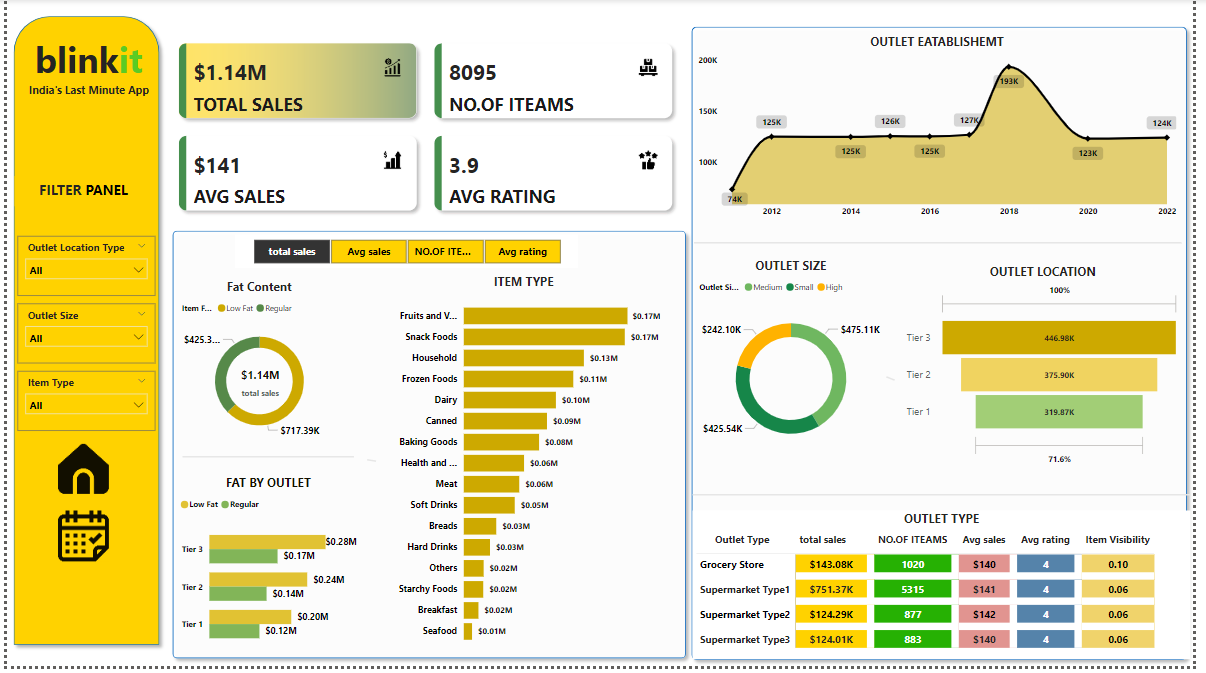

The dashboard page shown, as its layout file describes it:
{"tool":"powerbi","page":{"name":"Page 1","canvas":[1600,900],"ordinal":0},"visuals":[{"type":"shape","box":[0,14.2,214.5,866.3],"z":0},{"type":"textbox","box":[24.8,43.4,171.6,78.5],"z":1000},{"type":"textbox","box":[24.8,107.5,438.2,57.9],"z":2000},{"type":"cardVisual","fields":{"Data":["BlinkIT Grocery Data.total sales","BlinkIT Grocery Data.no of ideas","BlinkIT Grocery Data.Avg sales","BlinkIT Grocery Data.Avg rating"]},"box":[214.5,42.5,700.3,261.1],"z":3000},{"type":"shape","box":[214.5,303.6,710.4,595.1],"z":4000},{"type":"donutChart","title":" Fat Content","fields":{"Y":["BlinkIT Grocery Data.total sales"],"Category":["BlinkIT Grocery Data.Item Fat Content"]},"box":[231.5,376.2,219.1,229.4],"z":5000},{"type":"slicer","fields":{"Values":["metrics.metrics"]},"box":[308,318.3,463,45.5],"z":6000},{"type":"card","fields":{"Values":["BlinkIT Grocery Data.total sales"]},"box":[279,487.8,124,57.9],"z":7000},{"type":"clusteredBarChart","title":"FAT BY OUTLET   ","fields":{"Y":["BlinkIT Grocery Data.total sales"],"Category":["BlinkIT Grocery Data.Outlet Location Type"],"Series":["BlinkIT Grocery Data.Item Fat Content"]},"box":[229.4,640.8,248,248],"z":8000},{"type":"shape","box":[237.7,599.4,231.5,37.2],"z":9000},{"type":"shape","box":[485.7,363.8,12.4,516.7],"z":10000},{"type":"barChart","title":"ITEM TYPE","fields":{"Y":["BlinkIT Grocery Data.total sales"],"Category":["BlinkIT Grocery Data.Item Type"]},"box":[508.5,370,378.3,510.5],"z":11000},{"type":"shape","box":[914.9,28.3,686.1,872.4],"z":12000},{"type":"lineChart","title":"OUTLET EATABLISHEMT","fields":{"Category":["BlinkIT Grocery Data.Outlet Establishment Year"],"Y":["Sum(BlinkIT Grocery Data.Sales)"]},"box":[927,46.6,655.8,257.1],"z":13000},{"type":"shape","box":[927,317.8,657.8,22.3],"z":14000},{"type":"donutChart","title":"OUTLET SIZE","fields":{"Y":["BlinkIT Grocery Data.total sales"],"Category":["BlinkIT Grocery Data.Outlet Size"]},"box":[929,348.1,257.1,279.3],"z":15000},{"type":"shape","box":[1186.1,402.8,12.1,218.6],"z":16000},{"type":"funnel","title":"OUTLET LOCATION","fields":{"Category":["BlinkIT Grocery Data.Outlet Location Type"],"Y":["Sum(BlinkIT Grocery Data.Sales)"]},"box":[1208.3,356.2,378.5,279.3],"z":17000},{"type":"shape","box":[925,657.8,672,22.3],"z":18000},{"type":"pivotTable","title":"OUTLET TYPE","fields":{"Rows":["BlinkIT Grocery Data.Outlet Type"],"Values":["BlinkIT Grocery Data.total sales","BlinkIT Grocery Data.NO.OF ITEAMS","BlinkIT Grocery Data.Avg sales","BlinkIT Grocery Data.Avg rating","Avg(BlinkIT Grocery Data.Item Visibility)"]},"box":[925,690.2,672,200.4],"z":19000},{"type":"slicer","fields":{"Values":["BlinkIT Grocery Data.Outlet Location Type"]},"box":[14.2,319.8,186.2,81],"z":20000},{"type":"slicer","fields":{"Values":["BlinkIT Grocery Data.Outlet Size"]},"box":[14.2,410.9,186.2,81],"z":21000},{"type":"slicer","fields":{"Values":["BlinkIT Grocery Data.Item Type"]},"box":[14.2,502,186.2,81],"z":22000},{"type":"textbox","box":[10.1,238.8,186.2,40.5],"z":23000},{"type":"actionButton","box":[68.8,599.1,68.8,68.8],"z":24000},{"type":"actionButton","box":[68.8,690.2,68.8,68.8],"z":25000}]}

Visuals, with their boxes in screenshot pixels (x1, y1, x2, y2), scaled from the page's 1600x900 canvas onto the 1206x673 screenshot:
shape: <box>0,11,162,658</box>
textbox: <box>19,32,148,91</box>
textbox: <box>19,80,349,124</box>
cardVisual - BlinkIT Grocery Data.total sales x BlinkIT Grocery Data.no of ideas: <box>162,32,690,227</box>
shape: <box>162,227,697,672</box>
" Fat Content" donutChart: <box>174,281,340,453</box>
slicer - metrics.metrics: <box>232,238,581,272</box>
card - BlinkIT Grocery Data.total sales: <box>210,365,304,408</box>
"FAT BY OUTLET   " clusteredBarChart: <box>173,479,360,665</box>
shape: <box>179,448,354,476</box>
shape: <box>366,272,375,658</box>
"ITEM TYPE" barChart: <box>383,277,668,658</box>
shape: <box>690,21,1205,672</box>
"OUTLET EATABLISHEMT" lineChart: <box>699,35,1193,227</box>
shape: <box>699,238,1195,254</box>
"OUTLET SIZE" donutChart: <box>700,260,894,469</box>
shape: <box>894,301,903,465</box>
"OUTLET LOCATION" funnel: <box>911,266,1196,475</box>
shape: <box>697,492,1204,509</box>
"OUTLET TYPE" pivotTable: <box>697,516,1204,666</box>
slicer - BlinkIT Grocery Data.Outlet Location Type: <box>11,239,151,300</box>
slicer - BlinkIT Grocery Data.Outlet Size: <box>11,307,151,368</box>
slicer - BlinkIT Grocery Data.Item Type: <box>11,375,151,436</box>
textbox: <box>8,179,148,209</box>
actionButton: <box>52,448,104,499</box>
actionButton: <box>52,516,104,568</box>
